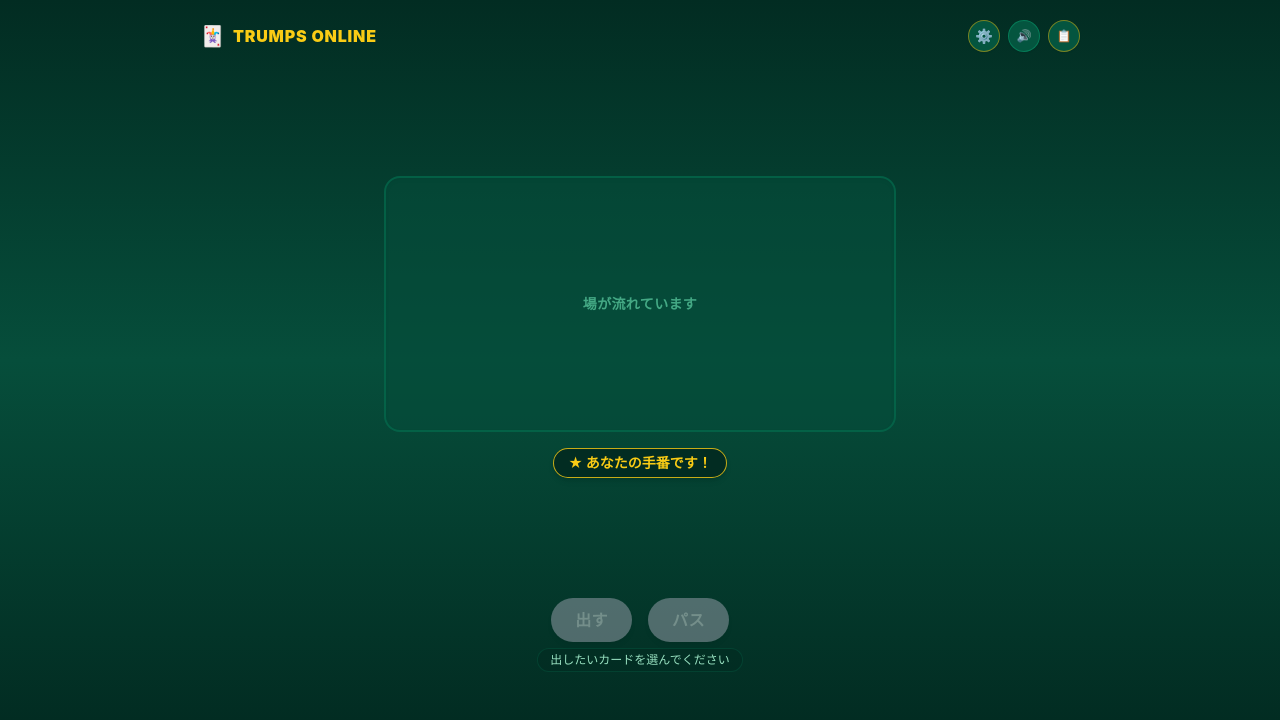
Rematch Flow and Settings UI › TableScreen: モバイル表示用の設定ボタン（settings-button）をクリックすると設定モーダルが開くこと
Click the button with test id "settings-button".
click(984, 36)  # box left=968, top=20, right=1000, bottom=52
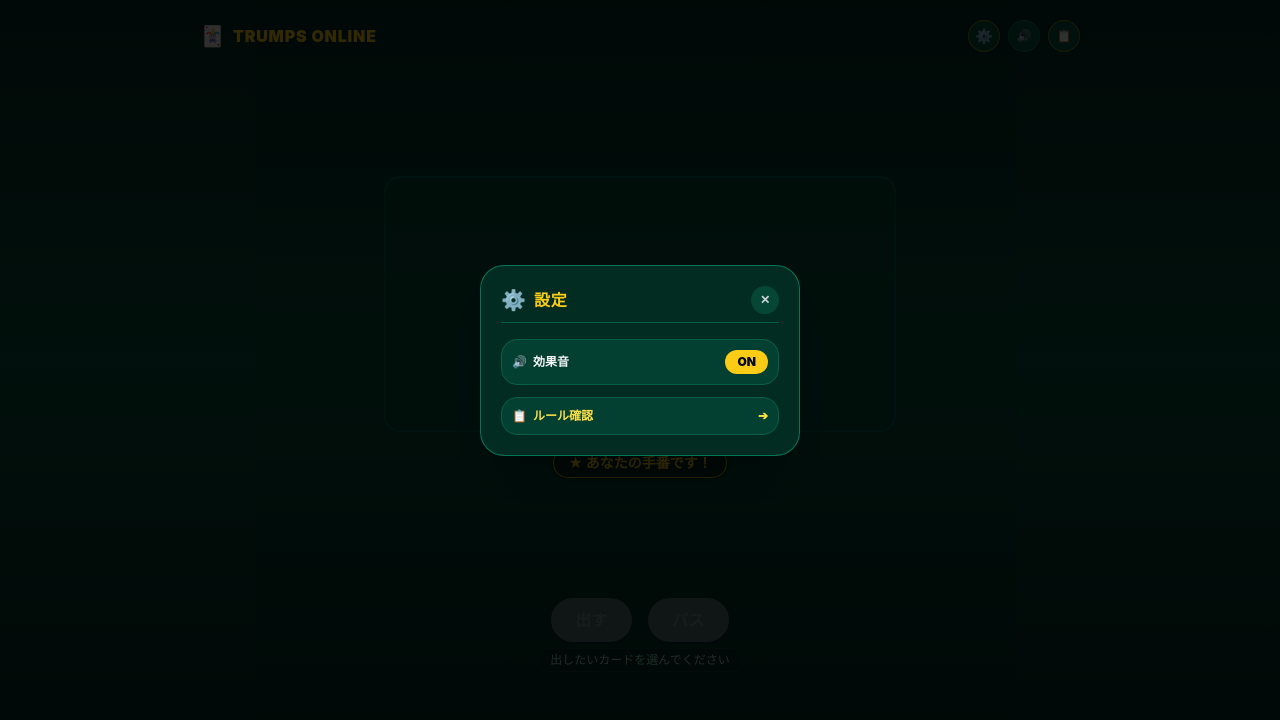
Now the dialog with test id "settings-modal" is shown
